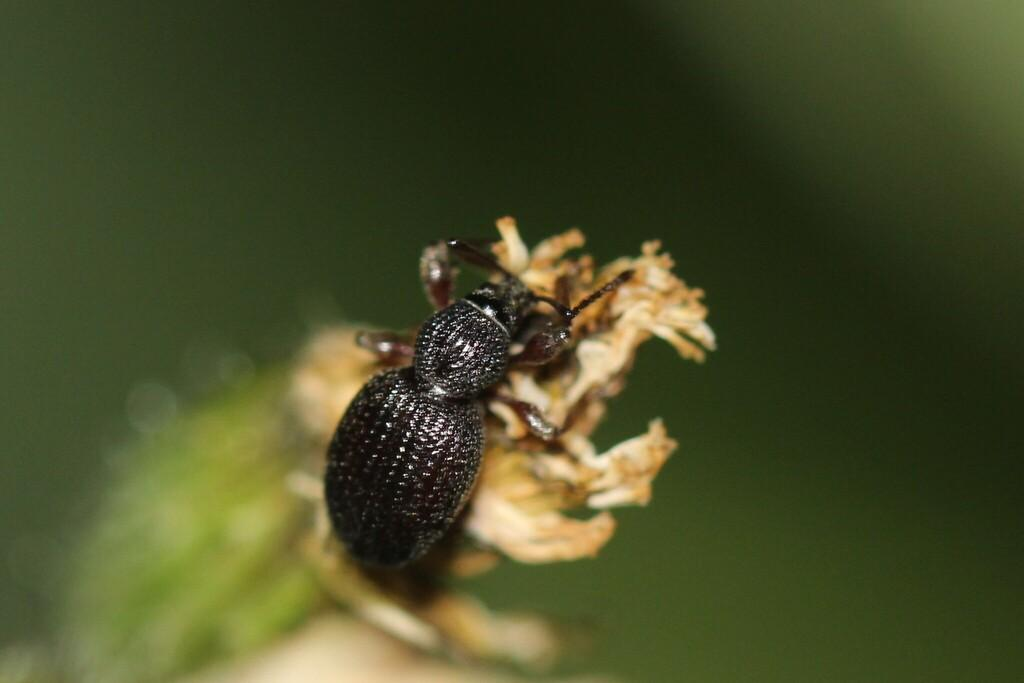weevils: (260, 186, 690, 608)
